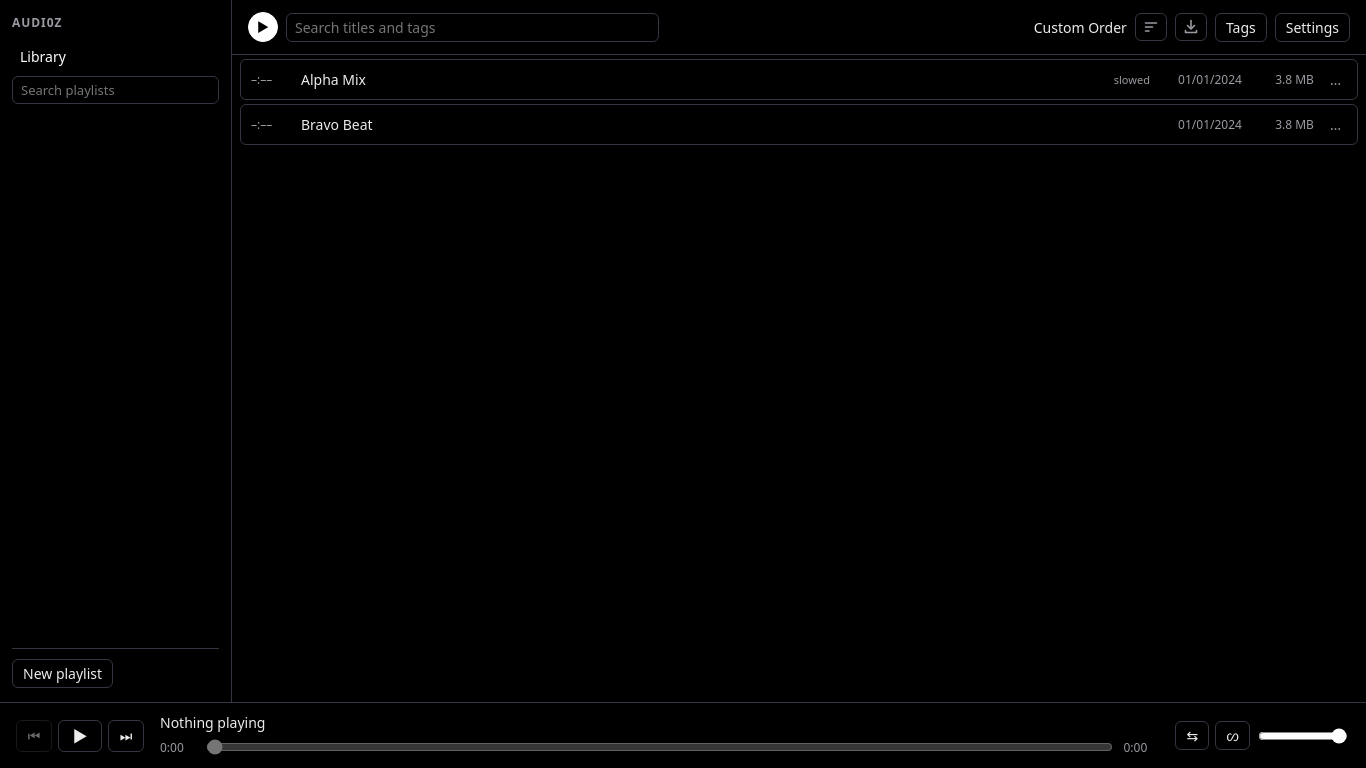
Scenario: EditSongDialog › closes on Escape, leaving the song untouched
Click the button named "Options for Alpha Mix" at (1335, 80), box [1324, 71, 1347, 89]
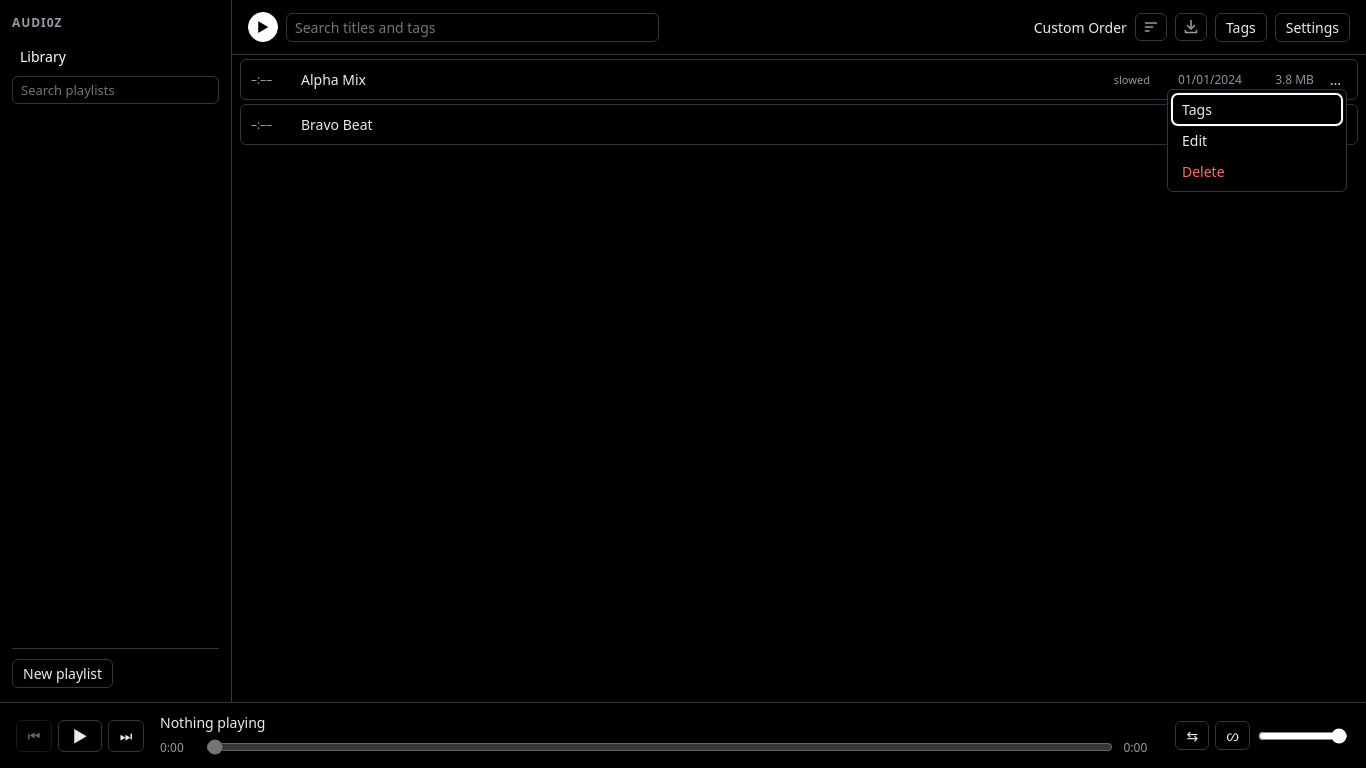
Click the menu item "Edit" at (1257, 140), box [1172, 125, 1342, 156]
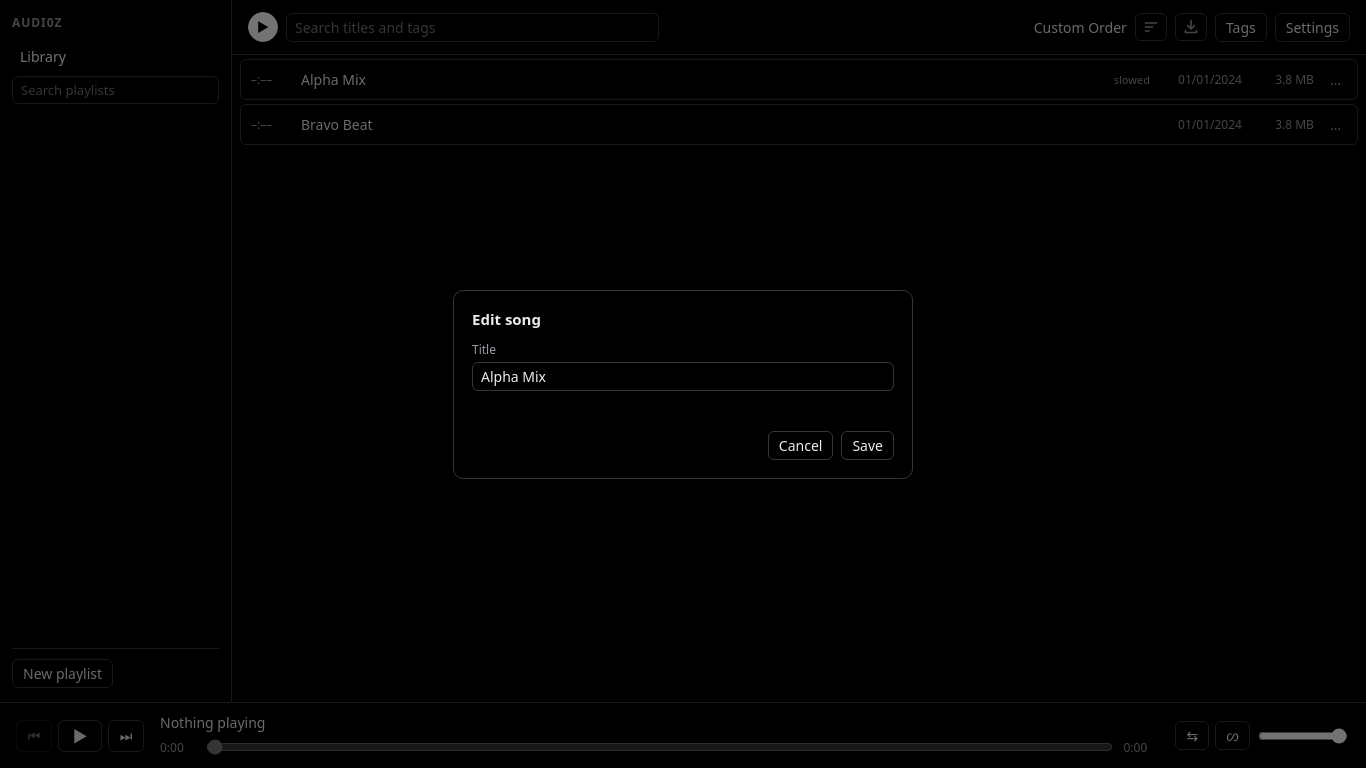
Type " (slowed)" into the field labelled "Title" at (683, 376), box [472, 362, 894, 390]
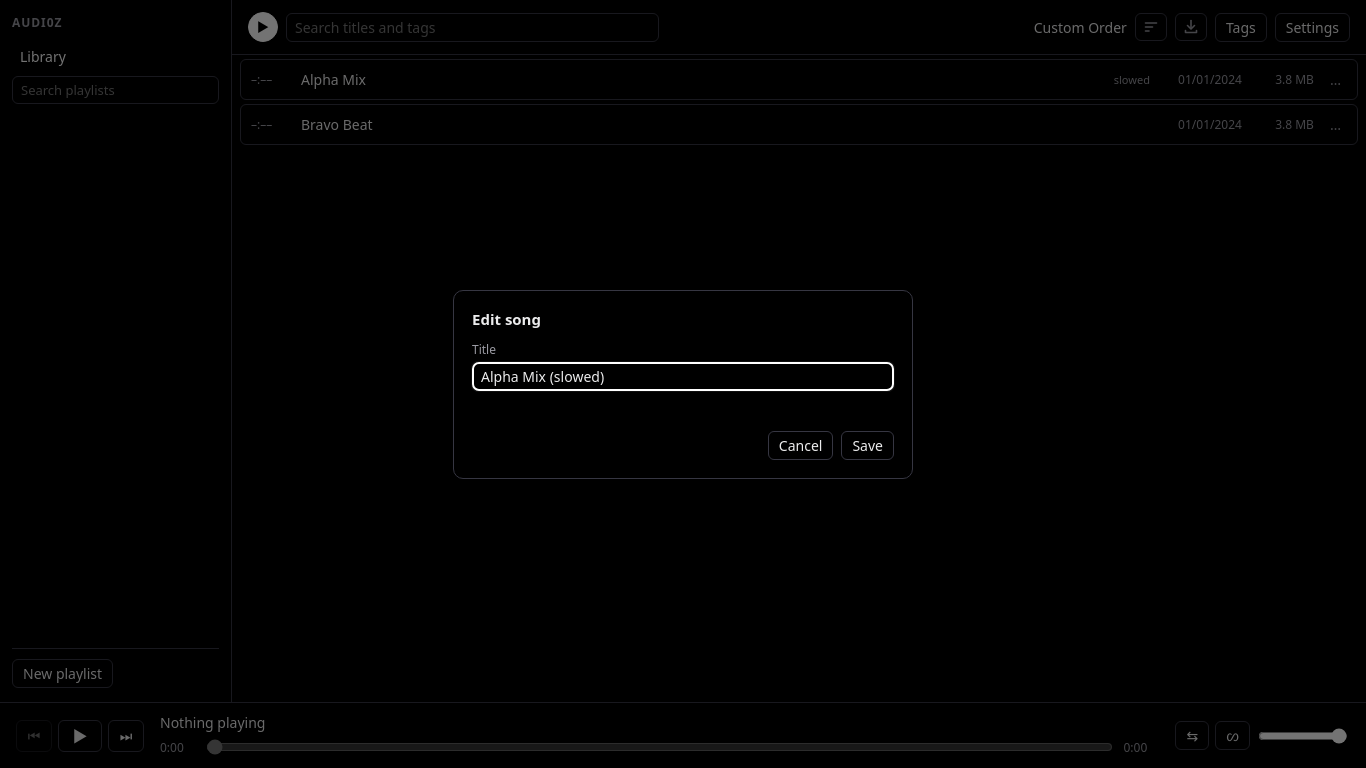
Press Escape
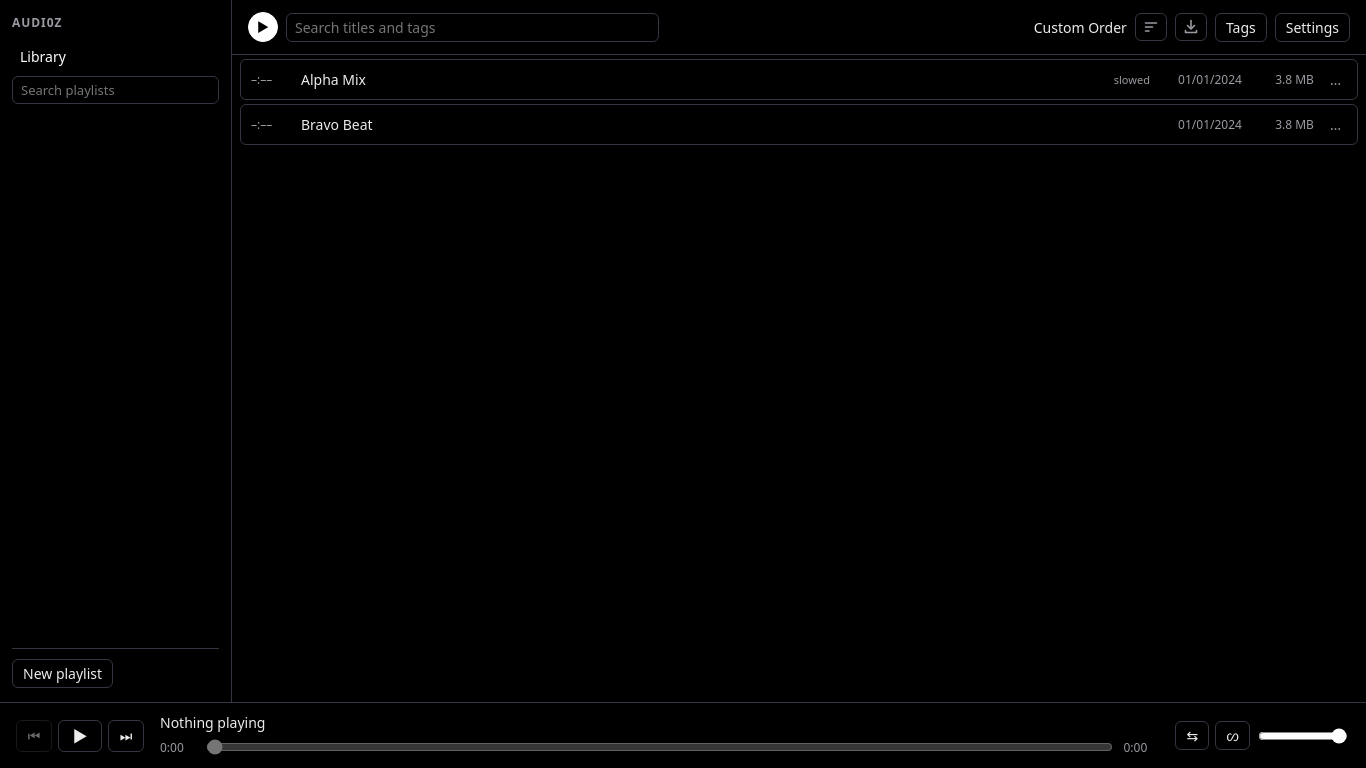
Check: the heading "Edit song" is gone
